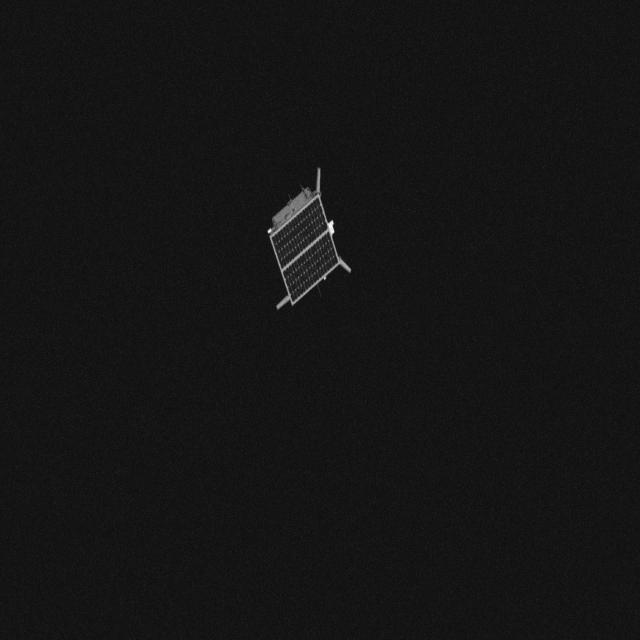medium_debris: (256, 164, 354, 324)
